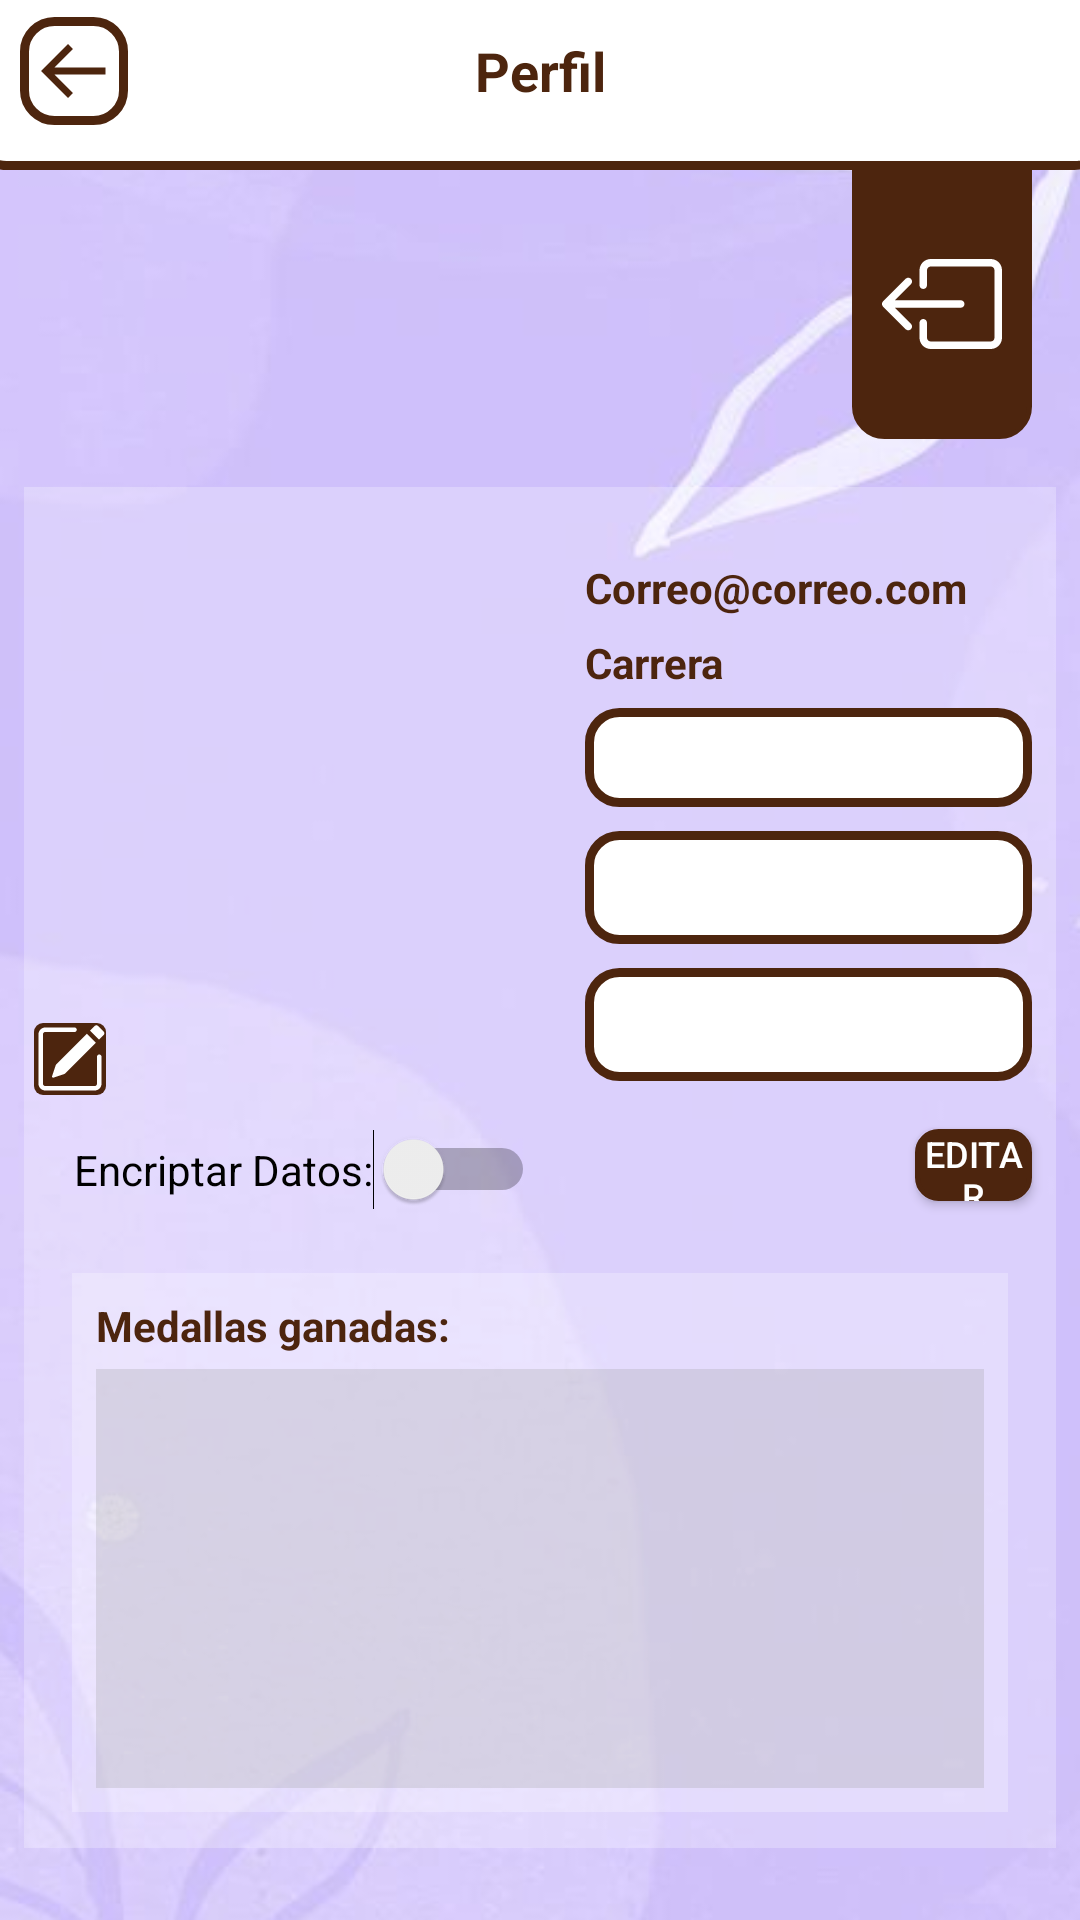

Icons on this 1080 × 1920 Android screen, each with its box as {"x1": x1, "y1": y1, "x2": x2, "y2": y2}:
arrow back brown: {"x1": 20, "y1": 17, "x2": 128, "y2": 125}
box arrow left: {"x1": 882, "y1": 259, "x2": 1002, "y2": 349}
pencil square bw: {"x1": 34, "y1": 1023, "x2": 106, "y2": 1095}
